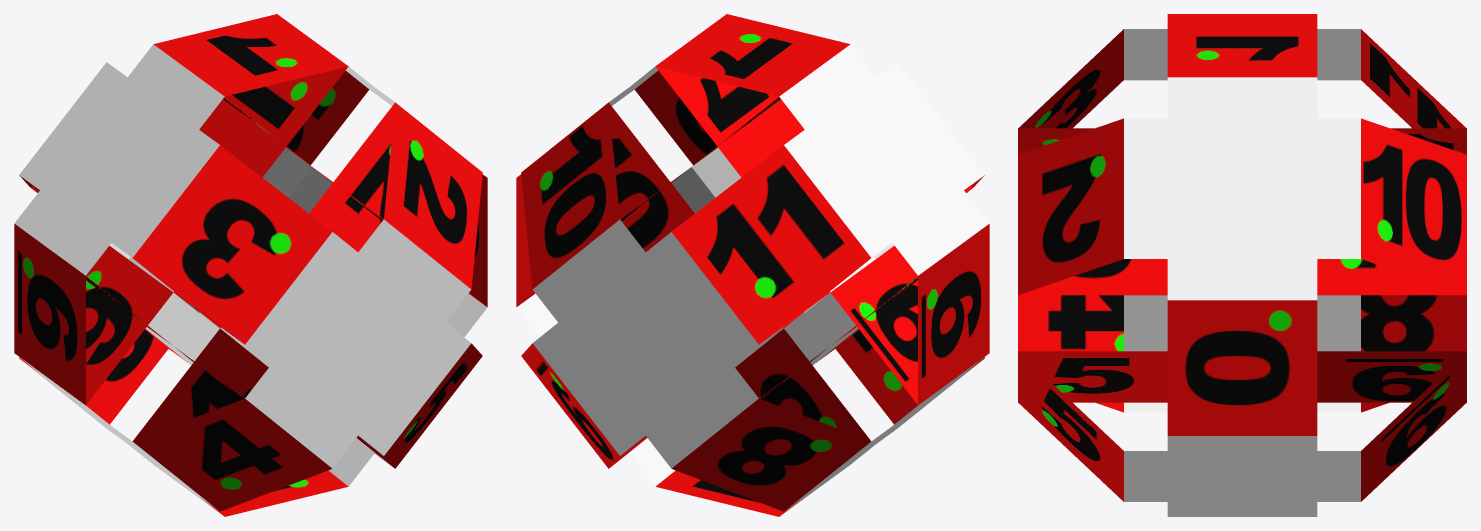
Rendered from datomVS_piston.obj.
3 renders of one model, left to right at view 1: azimuth 30°, elevation 25°; view 2: azimuth 150°, elevation 25°; view 3: azimuth 270°, elevation 25°, orthographic. The views are drawn at different scales.
Visible parts, largest first — view 1: Datom, Datom136B, Datom2345, Datom89AB, Datom4678, Datom012A; view 2: Datom, Datom136B, Datom89AB, Datom2345, Datom4678, Datom012A; view 3: Datom, Datom0579, Datom4678, Datom012A, Datom2345, Datom89AB, Datom136B.
Boxes of the visible parts, x1,y1,x2,y2 form: Datom: (14,14,487,516); Datom136B: (30,66,348,404); Datom2345: (133,102,395,468); Datom89AB: (19,70,369,424); Datom4678: (86,276,345,484); Datom012A: (222,97,483,304); Datom: (516,14,989,516); Datom136B: (655,66,973,404); Datom89AB: (608,102,870,468); Datom2345: (634,70,984,424); Datom4678: (658,276,917,484); Datom012A: (520,97,781,304); Datom: (1018,14,1466,516); Datom0579: (1018,351,1466,402); Datom4678: (1018,295,1466,351); Datom012A: (1018,259,1466,295); Datom2345: (1124,295,1167,351); Datom89AB: (1317,295,1360,351); Datom136B: (1018,128,1466,154).
Bounding box in the file's own units: 10 × 10 × 9.25.
Materials: 2 (1 with a texture image).
